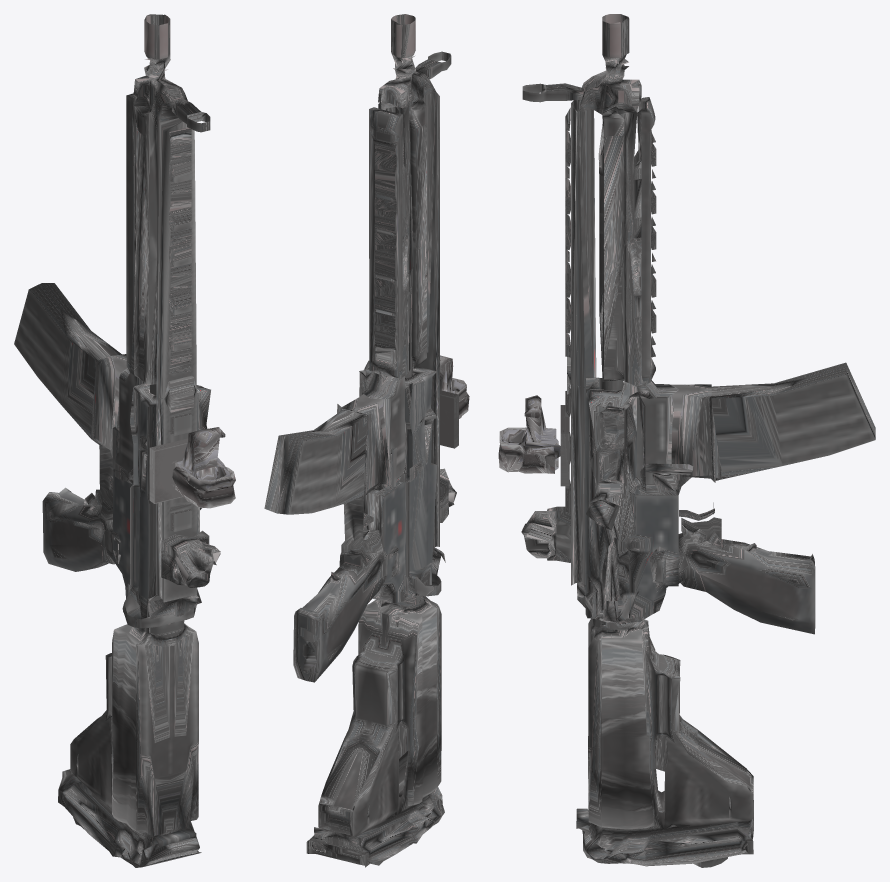
3 views of the same model, side by side, from view 1: azimuth 30°, elevation 25°; view 2: azimuth 150°, elevation 25°; view 3: azimuth 270°, elevation 25° (orthographic). The views are drawn at different scales.
Parts seen in each view (by area): view 1: body; view 2: body; view 3: body.
Part boxes in pixels (<box>): body: <box>14,14,235,867</box>; body: <box>264,14,469,867</box>; body: <box>498,14,875,867</box>.
Size of the model in its own units: 0.0764 by 0.7972 by 0.3258.
Materials: 2 (2 with a texture image).
